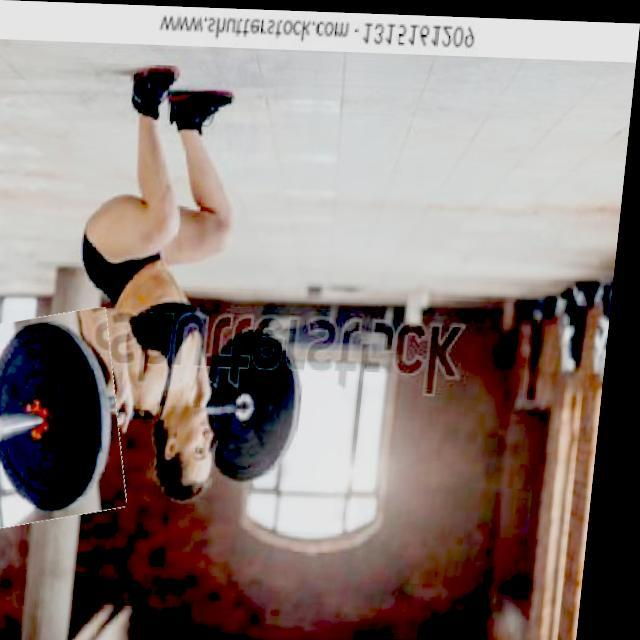barbell: (1, 309, 145, 528)
